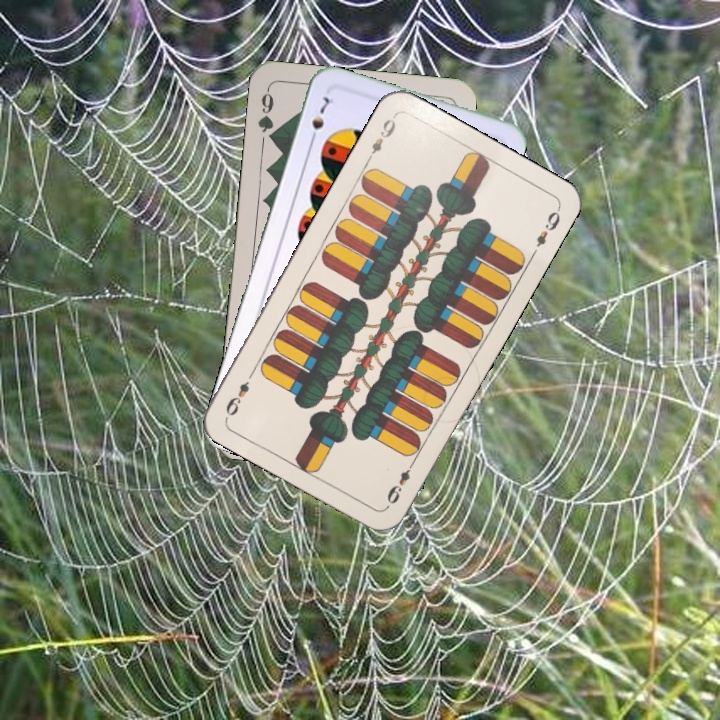E9: (362, 111, 398, 165), (382, 456, 418, 507)
G9: (254, 85, 279, 145)
S7: (305, 92, 336, 147)
